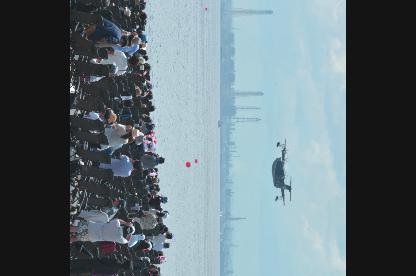Tu95: (272, 138, 292, 206)
